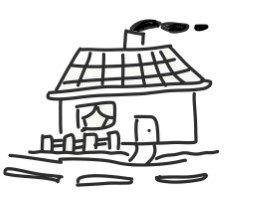door: (129, 110, 164, 149)
open_window: (73, 99, 121, 132)
roof: (42, 43, 219, 101)
smoking_chimney: (121, 9, 212, 51)
wall: (52, 86, 208, 147)
